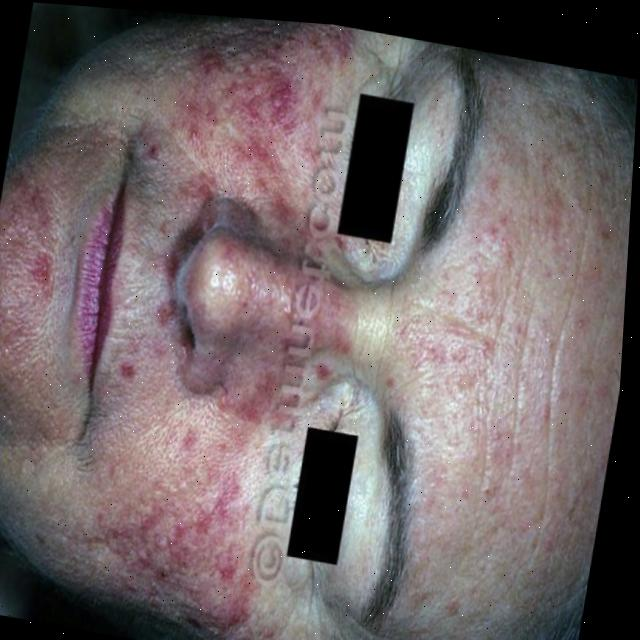Rosacea: (397, 113, 635, 580), (82, 355, 294, 634), (162, 13, 320, 192), (0, 180, 84, 349), (230, 269, 317, 337)
